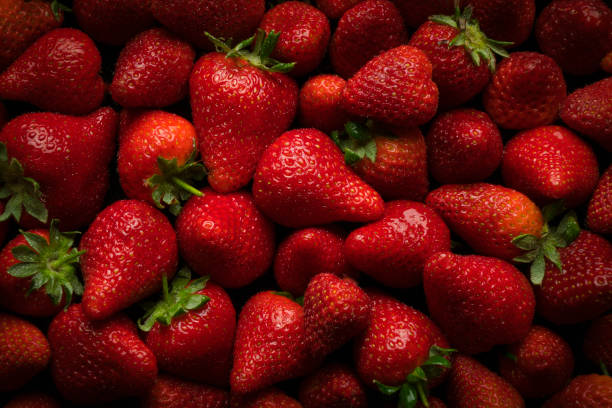Fresa: (187, 38, 300, 195), (1, 107, 120, 234), (252, 125, 391, 231), (422, 243, 538, 360), (74, 197, 182, 322), (352, 280, 454, 401), (136, 269, 237, 390), (425, 177, 552, 267), (45, 297, 157, 398), (173, 185, 282, 288), (109, 104, 205, 215), (2, 21, 109, 119), (497, 119, 603, 215), (342, 193, 452, 280), (229, 284, 312, 395), (340, 44, 441, 132), (107, 21, 197, 116), (408, 12, 494, 109), (531, 221, 612, 321), (1, 226, 83, 319), (483, 48, 570, 134), (351, 120, 431, 202), (302, 269, 373, 360)
